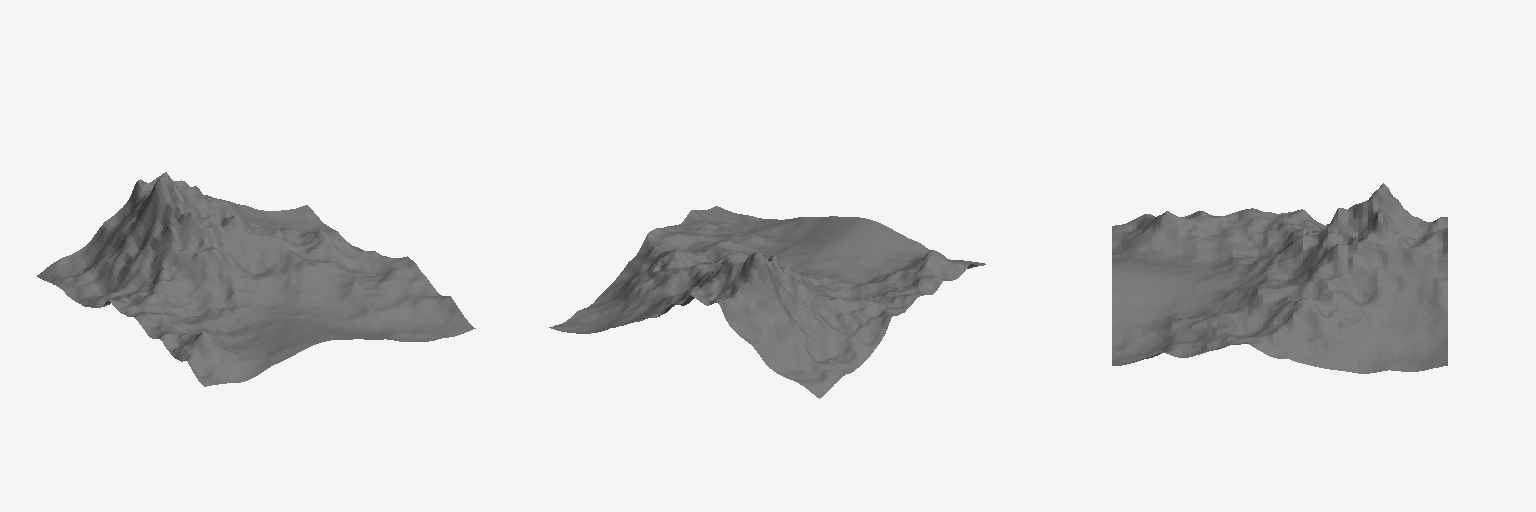
File: ground1.obj
The picture shows the model from 3 angles: view 1: azimuth 30°, elevation 25°; view 2: azimuth 150°, elevation 25°; view 3: azimuth 270°, elevation 25°; orthographic projection.
Visible parts, largest first — view 1: ground1; view 2: ground1; view 3: ground1.
Part boxes in pixels (x1,y1,x2,y2): ground1: (37, 172, 475, 386); ground1: (549, 206, 985, 398); ground1: (1112, 183, 1447, 373).
Bounding box in the file's own units: 82.47 × 30.05 × 88.42.